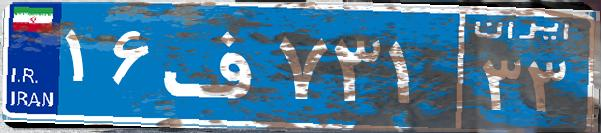1: (385, 28, 445, 110), (57, 26, 110, 107)
3: (330, 28, 385, 110), (475, 38, 525, 113), (525, 38, 570, 115)
6: (110, 28, 158, 105)
7: (273, 28, 330, 110)
ف: (158, 15, 273, 115)
